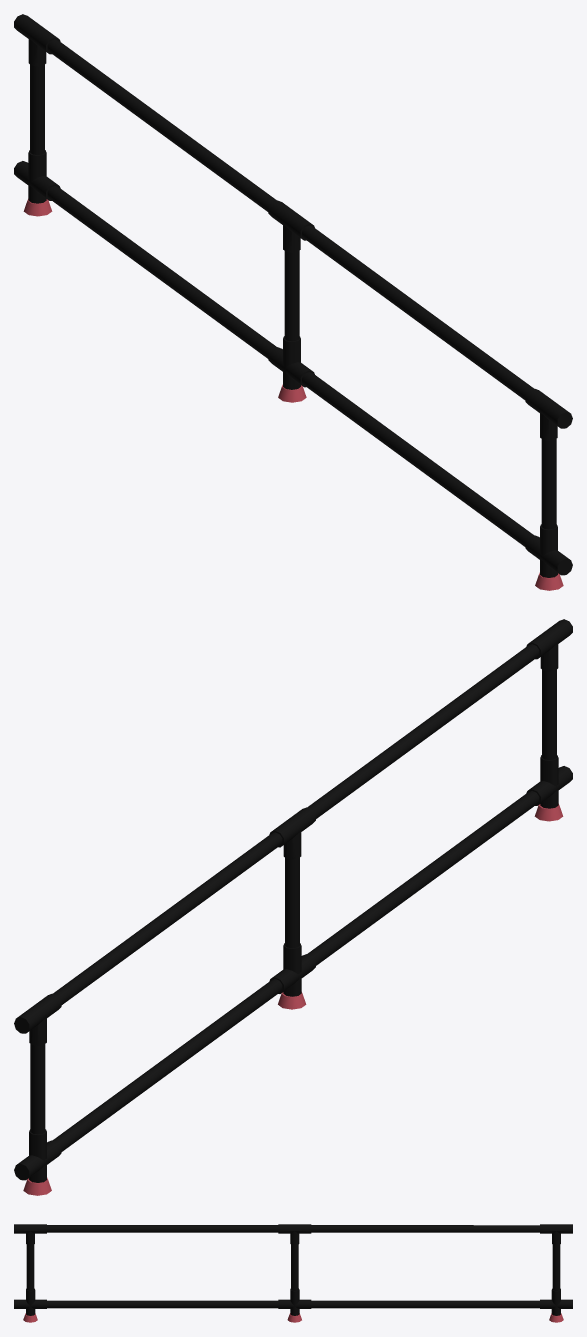
File: Railing.FBX
3 renders of one model, top to bottom at view 1: azimuth 30°, elevation 25°; view 2: azimuth 150°, elevation 25°; view 3: azimuth 270°, elevation 25°, orthographic. The views are drawn at different scales.
Parts seen in each view (by area): view 1: Cylinder008, Cylinder003, Cylinder013, Cylinder011, Cylinder015, Cylinder016, Cylinder006, Cylinder014, Cylinder004, Cylinder007, Cylinder012; view 2: Cylinder008, Cylinder003, Cylinder014, Cylinder016, Cylinder015, Cylinder011, Cylinder007, Cylinder013, Cylinder004, Cylinder006, Cylinder012; view 3: Cylinder008, Cylinder003, Cylinder004, Cylinder013, Cylinder014, Cylinder012, Cylinder006, Cylinder007, Cylinder015, Cylinder016, Cylinder011.
Part boxes in pixels (x1=…): Cylinder008: x1=47, y1=186, x2=533, y2=546; Cylinder003: x1=47, y1=39, x2=533, y2=399; Cylinder013: x1=525, y1=524, x2=572, y2=577; Cylinder011: x1=284, y1=250, x2=299, y2=341; Cylinder015: x1=541, y1=439, x2=556, y2=529; Cylinder016: x1=30, y1=64, x2=44, y2=155; Cylinder006: x1=525, y1=388, x2=572, y2=440; Cylinder014: x1=14, y1=150, x2=60, y2=203; Cylinder004: x1=268, y1=336, x2=314, y2=389; Cylinder007: x1=14, y1=14, x2=60, y2=66; Cylinder012: x1=268, y1=200, x2=314, y2=252; Cylinder008: x1=53, y1=791, x2=539, y2=1151; Cylinder003: x1=53, y1=644, x2=539, y2=1004; Cylinder014: x1=14, y1=1129, x2=61, y2=1182; Cylinder016: x1=30, y1=1044, x2=45, y2=1134; Cylinder015: x1=542, y1=669, x2=556, y2=760; Cylinder011: x1=285, y1=857, x2=299, y2=948; Cylinder007: x1=14, y1=993, x2=61, y2=1045; Cylinder013: x1=526, y1=755, x2=572, y2=808; Cylinder004: x1=269, y1=943, x2=315, y2=996; Cylinder006: x1=526, y1=619, x2=572, y2=671; Cylinder012: x1=269, y1=807, x2=315, y2=859; Cylinder008: x1=47, y1=1300, x2=539, y2=1308; Cylinder003: x1=47, y1=1225, x2=539, y2=1232; Cylinder004: x1=278, y1=1288, x2=311, y2=1315; Cylinder013: x1=14, y1=1288, x2=46, y2=1315; Cylinder014: x1=540, y1=1288, x2=572, y2=1315; Cylinder012: x1=278, y1=1224, x2=311, y2=1245; Cylinder006: x1=14, y1=1224, x2=46, y2=1245; Cylinder007: x1=540, y1=1224, x2=572, y2=1245; Cylinder015: x1=26, y1=1244, x2=34, y2=1290; Cylinder016: x1=552, y1=1244, x2=560, y2=1290; Cylinder011: x1=291, y1=1244, x2=298, y2=1290.
Size of the model in its own units: 0.1115 by 0.8027 by 4.29.
